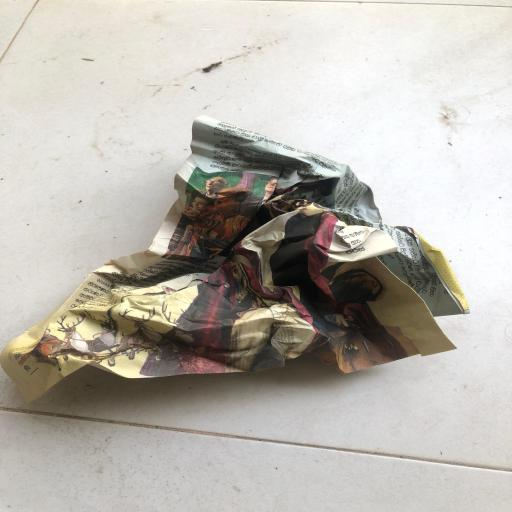waste: (0, 105, 479, 414)
